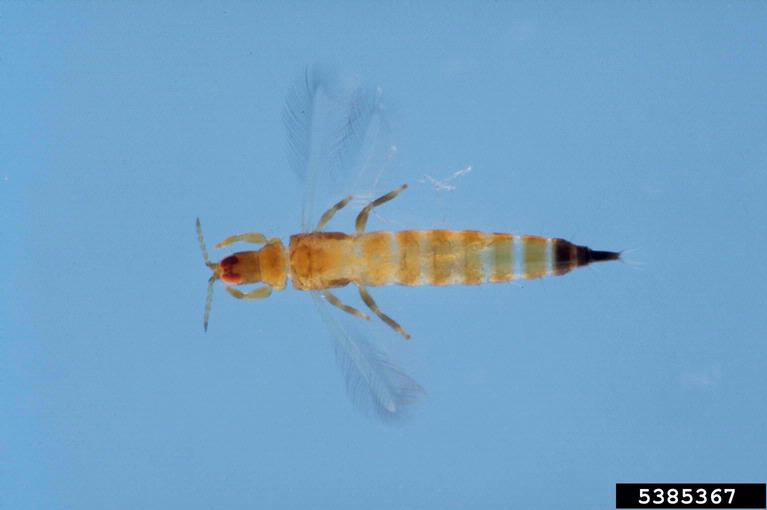Thrips: (178, 77, 619, 438)
